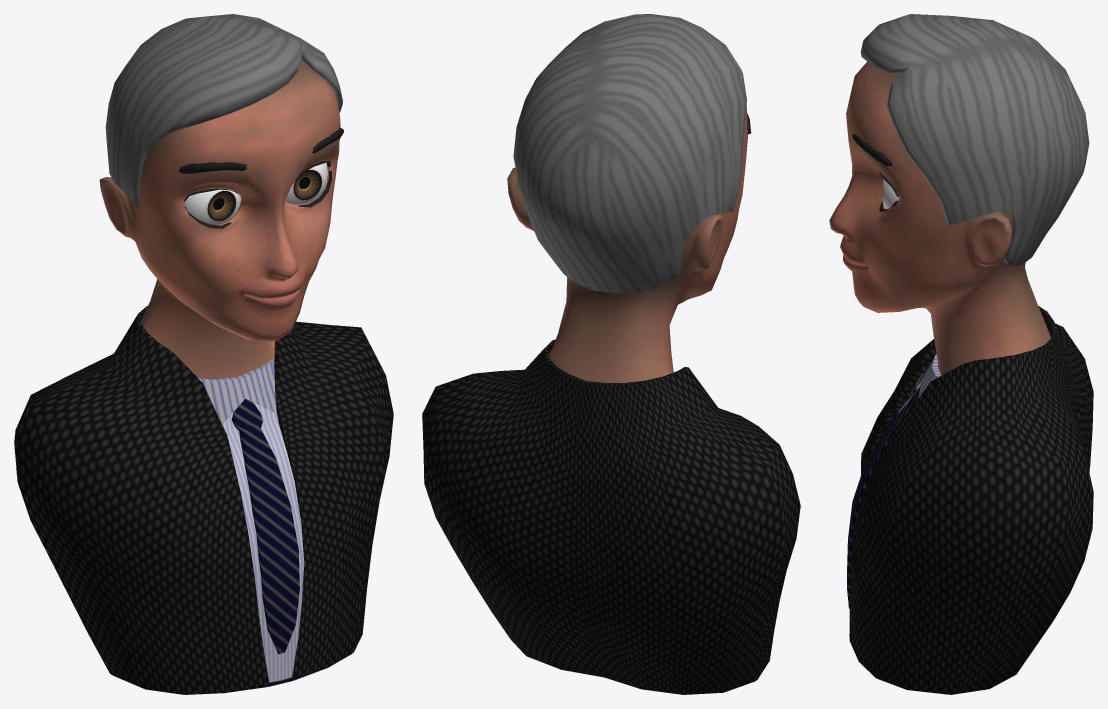
Rendered from male2.glb.
3 renders of one model, left to right at view 1: azimuth 30°, elevation 25°; view 2: azimuth 150°, elevation 25°; view 3: azimuth 270°, elevation 25°, orthographic.
Parts seen in each view (by area): view 1: lawyer_man; view 2: lawyer_man; view 3: lawyer_man.
Part boxes in pixels (left/top/right/bottom): lawyer_man: left=14, top=14, right=393, bottom=694; lawyer_man: left=422, top=14, right=800, bottom=694; lawyer_man: left=829, top=14, right=1093, bottom=694.
Size of the model in its own units: 0.3249 by 0.5332 by 0.2084.
Materials: 1 (1 with a texture image).
